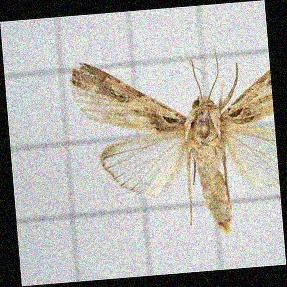Spodoptera litura: (74, 52, 276, 238)
